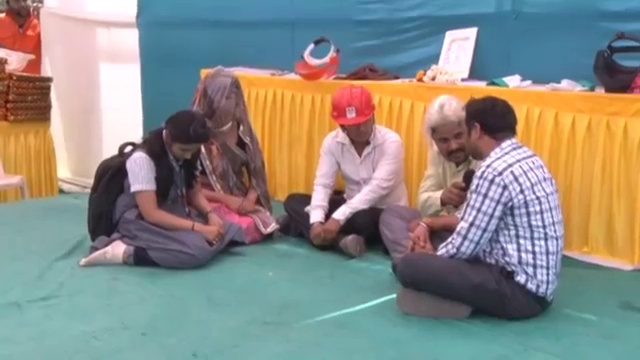helmet: (326, 85, 378, 129), (0, 48, 36, 76)
helmet_off: (465, 97, 519, 165), (194, 68, 244, 137), (426, 99, 476, 165), (155, 110, 211, 165), (3, 0, 33, 23)
helmet_on: (326, 84, 382, 146)
person: (390, 93, 567, 324), (78, 108, 234, 273), (281, 76, 410, 257), (182, 60, 278, 252), (377, 91, 483, 261), (0, 0, 43, 69)
